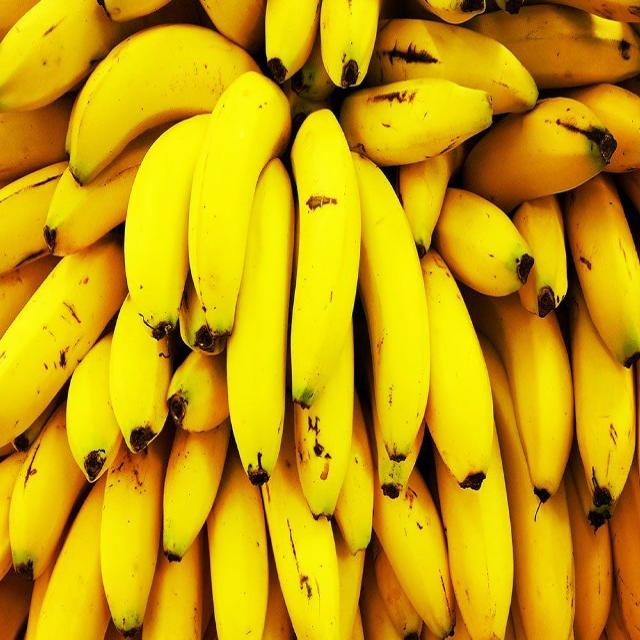Banana: (69, 26, 260, 184), (480, 334, 575, 639), (0, 234, 128, 445), (190, 71, 291, 336), (353, 153, 430, 461), (466, 291, 574, 502), (226, 159, 294, 483), (291, 110, 361, 407), (261, 409, 340, 639), (462, 96, 616, 212), (421, 250, 494, 488), (434, 427, 514, 639), (365, 18, 538, 114), (569, 279, 636, 525), (44, 125, 170, 255), (101, 425, 172, 635), (565, 173, 640, 368), (466, 4, 640, 88), (0, 0, 131, 111), (374, 468, 455, 638), (9, 403, 86, 579), (339, 79, 492, 166), (35, 472, 110, 639), (206, 442, 269, 639), (294, 324, 354, 517), (432, 189, 534, 296), (109, 295, 172, 452), (162, 419, 231, 561), (66, 334, 122, 482), (399, 151, 451, 256), (168, 350, 229, 432)
